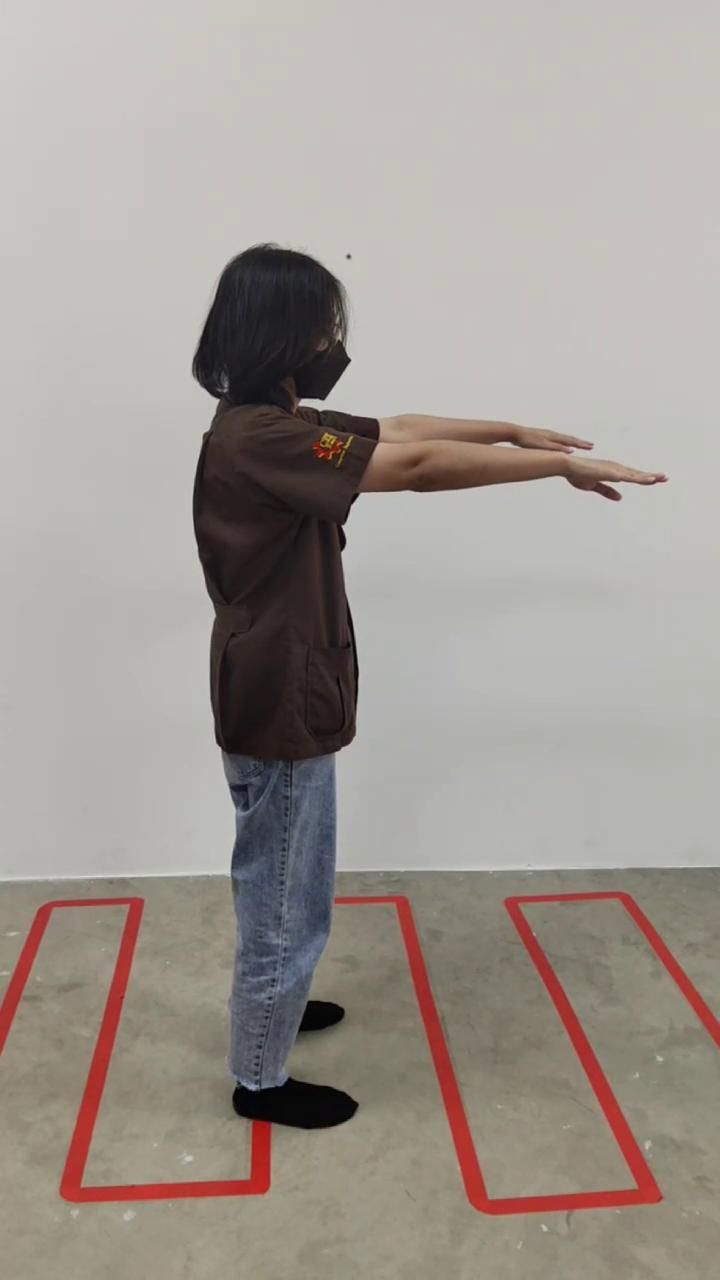squat up: (191, 246, 662, 1130)
